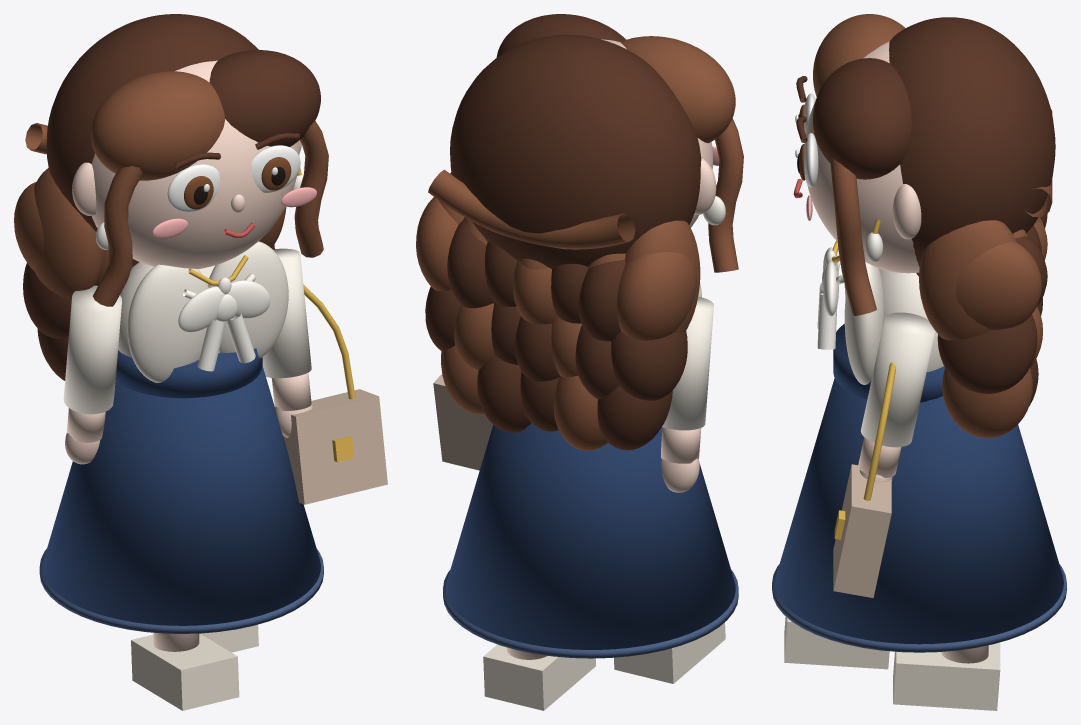
File: guest-06-master.glb
3 renders of one model, left to right at view 1: azimuth 30°, elevation 25°; view 2: azimuth 150°, elevation 25°; view 3: azimuth 270°, elevation 25°, orthographic. The views are drawn at different scales.
Visible parts, largest first — view 1: Skirt, Head, Hair back, Hair left crown, Guest06 left shoulder bag, Hair right crown, Left bolero panel, Shoe -1, Sleeve -1, Back wave 1, Waist belt, Right bolero panel (+22 smaller); view 2: Skirt, Hair back, Hair left crown, Guest06 long back wave 1-1, Back braid, Shoe 1, Guest06 long back wave 2-1, Sleeve -1, Guest06 long back wave 3-1, Face curl -1, Guest06 left shoulder bag, Skirt hem (+22 smaller); view 3: Skirt, Hair back, Hair right crown, Sleeve 1, Back wave 7, Guest06 long back wave 1-7, Shoe 1, Head, Guest06 left shoulder bag, Guest06 long back wave 2-7, Guest06 long back wave 3-5, Face curl 1 (+14 smaller).
Part boxes in pixels (x1,y1,x2,y2): Skirt: (42,366,320,625); Head: (91,60,299,269); Hair back: (46,14,258,231); Hair left crown: (90,71,225,180); Guest06 left shoulder bag: (283,389,387,504); Hair right crown: (209,50,320,146); Left bolero panel: (127,264,208,382); Shoe -1: (131,633,239,710); Sleeve -1: (63,285,121,414); Back wave 1: (34,168,103,298); Waist belt: (115,348,262,398); Right bolero panel: (208,241,288,358); Skirt: (446,422,735,649); Hair back: (450,34,701,268); Hair left crown: (620,36,735,143); Guest06 long back wave 1-1: (617,252,696,340); Back braid: (428,169,635,249); Shoe 1: (483,644,595,710); Guest06 long back wave 2-1: (611,331,687,400); Sleeve -1: (662,296,713,430); Guest06 long back wave 3-1: (597,386,672,450); Face curl -1: (708,118,743,272); Guest06 left shoulder bag: (433,374,493,470); Skirt hem: (443,570,738,658); Skirt: (775,378,1063,644); Hair back: (889,17,1055,267); Hair right crown: (813,58,911,179); Sleeve 1: (861,312,935,447); Back wave 7: (919,220,1016,340); Guest06 long back wave 1-7: (956,241,1041,330); Shoe 1: (893,642,1000,710); Head: (804,41,919,273); Guest06 left shoulder bag: (833,464,891,597); Guest06 long back wave 2-7: (937,314,1037,393); Guest06 long back wave 3-5: (942,368,1032,438); Face curl 1: (830,157,876,315).
Bounding box in the file's own units: 1.53 × 3.16 × 1.3.
